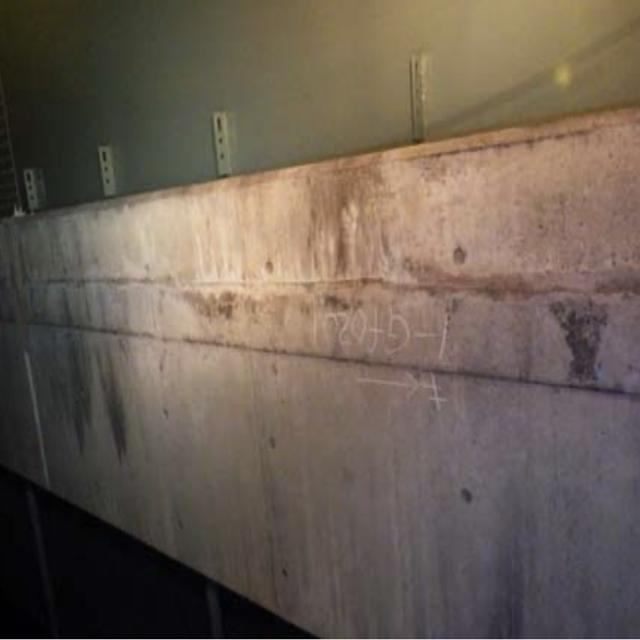spalling: (543, 263, 613, 397)
